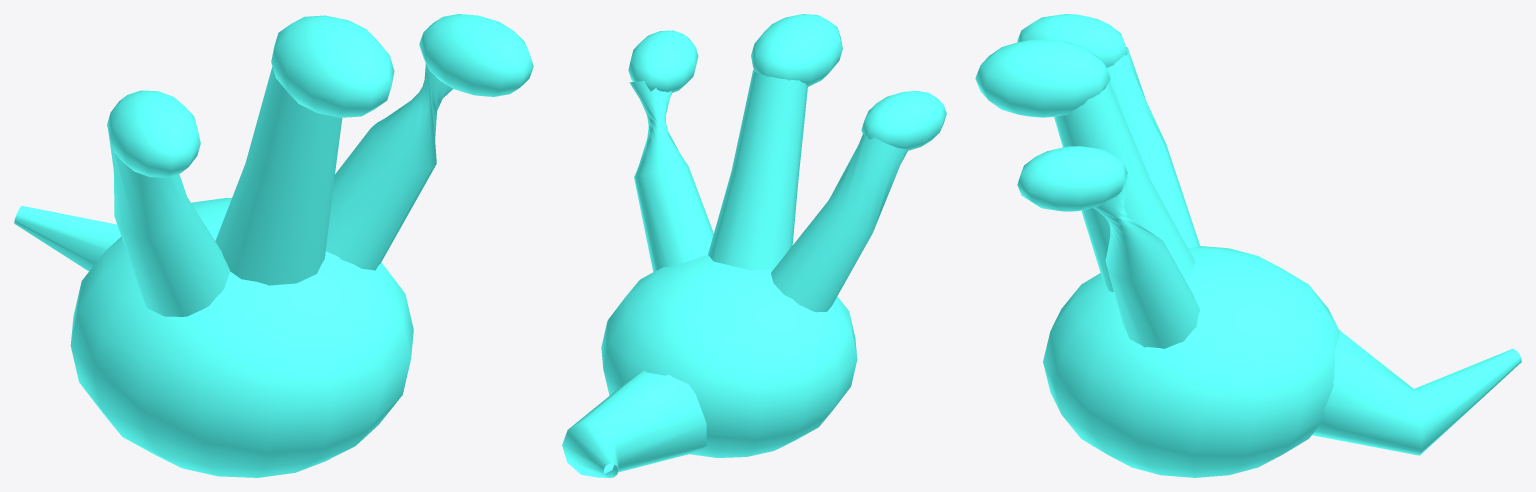
Rendered from mon_hydra.glb.
3 renders of one model, left to right at view 1: azimuth 30°, elevation 25°; view 2: azimuth 150°, elevation 25°; view 3: azimuth 270°, elevation 25°, orthographic. The views are drawn at different scales.
Visible parts, largest first — view 1: hydra_scales; view 2: hydra_scales; view 3: hydra_scales.
Boxes of the visible parts, box(x1,y1,x2,y2) form: hydra_scales: box(14, 14, 533, 477); hydra_scales: box(562, 14, 946, 477); hydra_scales: box(975, 14, 1521, 477).
Bounding box in the file's own units: 1.85 × 2.18 × 2.59.
